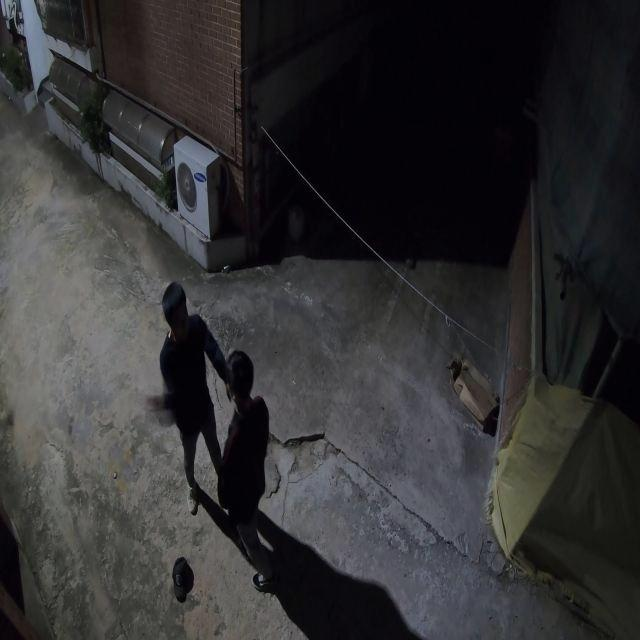fight: (155, 281, 286, 600)
